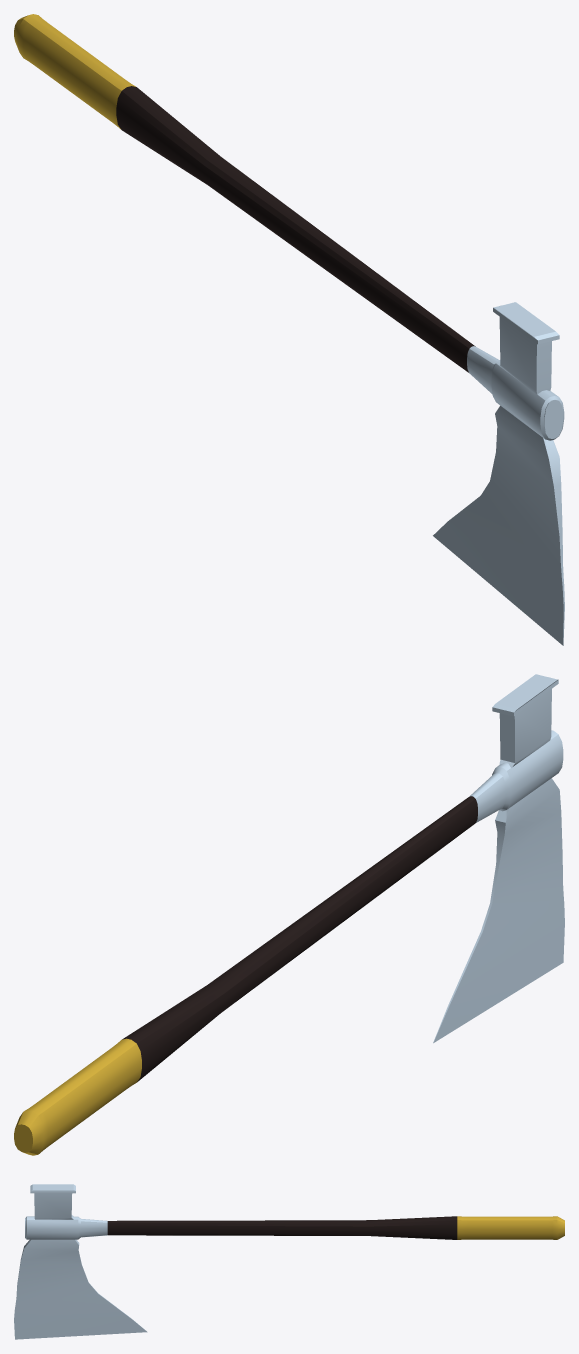
The model's file is weaponAxe.obj.
The picture shows the model from 3 angles, top to bottom: view 1: azimuth 30°, elevation 25°; view 2: azimuth 150°, elevation 25°; view 3: azimuth 270°, elevation 25°; orthographic projection. The views are drawn at different scales.
Parts seen in each view (by area): view 1: Axe.002; view 2: Axe.002; view 3: Axe.002.
Part boxes in pixels (bbox=[...]): Axe.002: bbox=[14, 14, 564, 645]; Axe.002: bbox=[14, 674, 564, 1155]; Axe.002: bbox=[14, 1184, 564, 1339].
Size of the model in its own units: 0.0553 by 0.6139 by 2.01.
